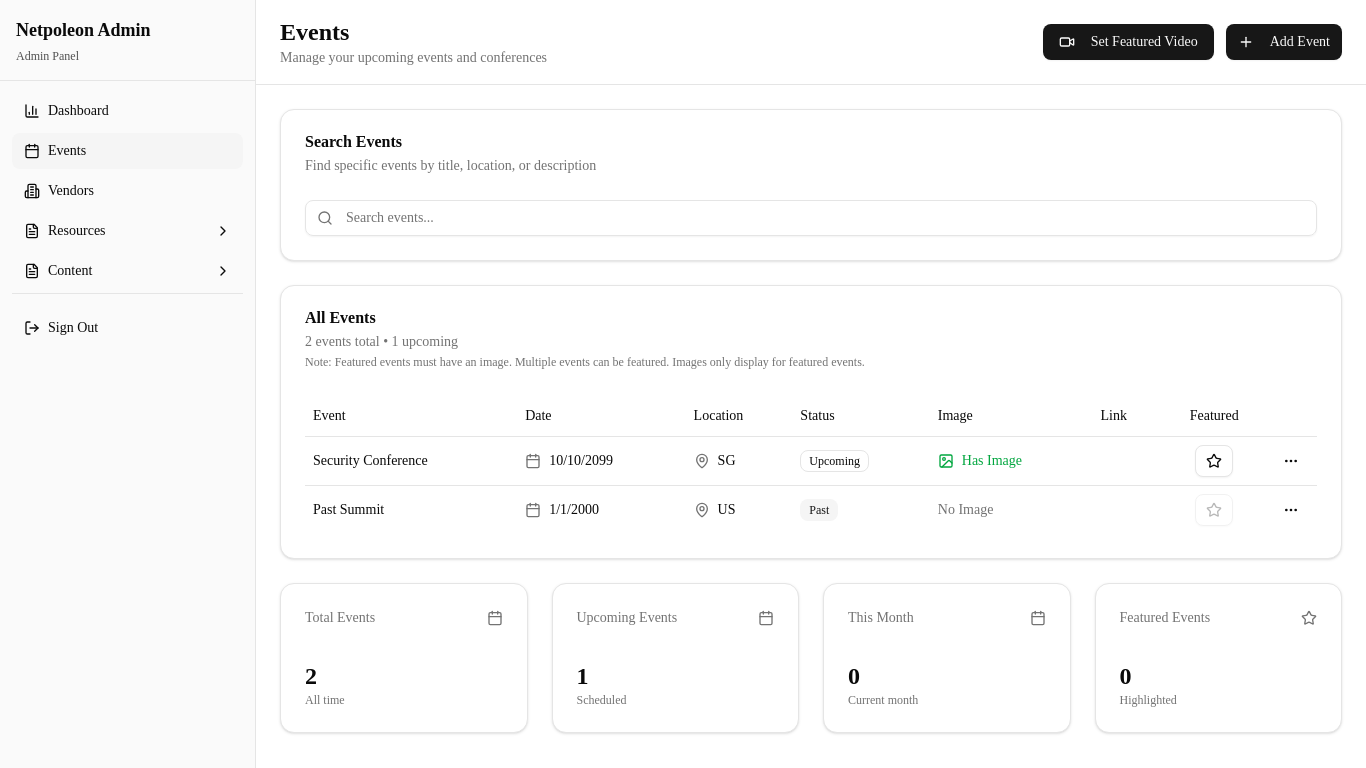
Admin Events Page › filters via search
expect the text "All Events" is shown: met, box [305,309,376,326]
Type "security" into the field with placeholder "Search events..." at (811, 218), box [305,200,1317,236]
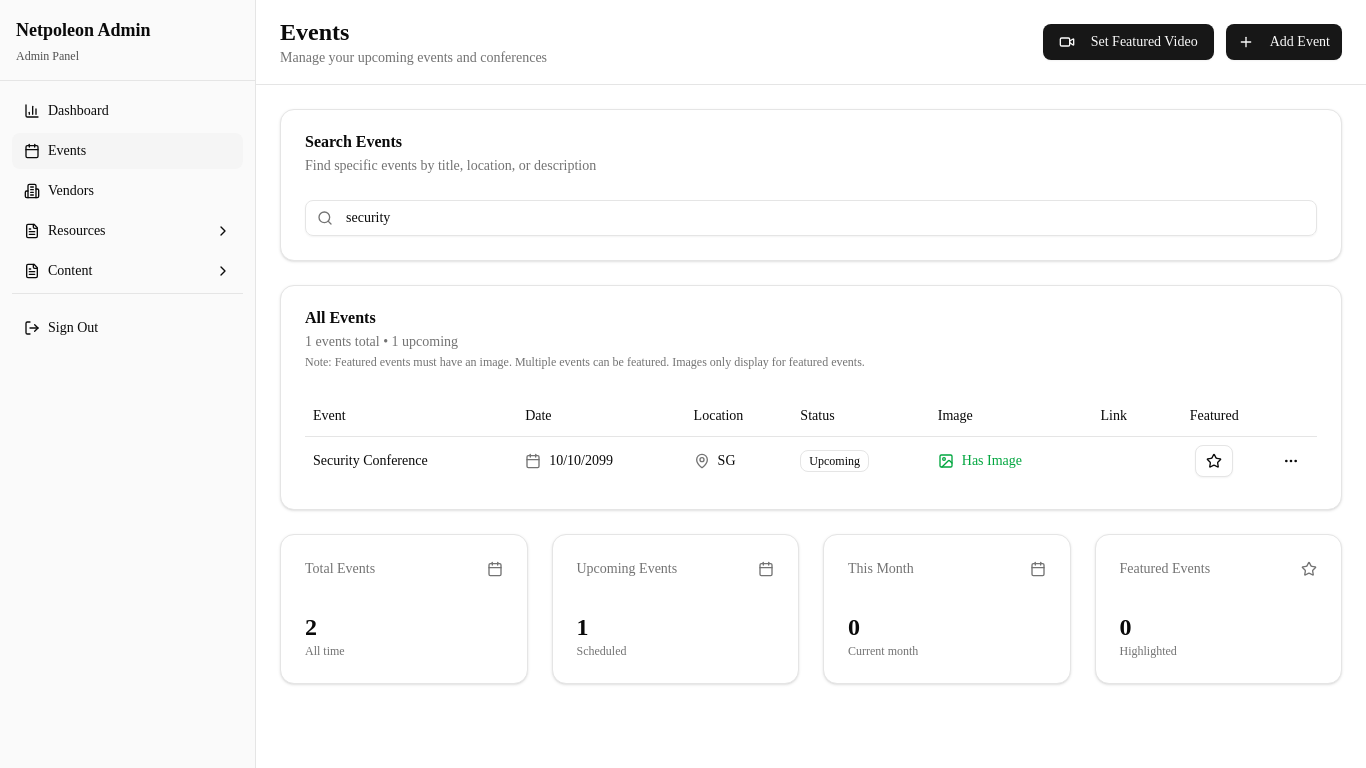
expect the text "1 events total" is shown: met, box [305,334,865,369]
expect the text "Past Summit" is gone: met
